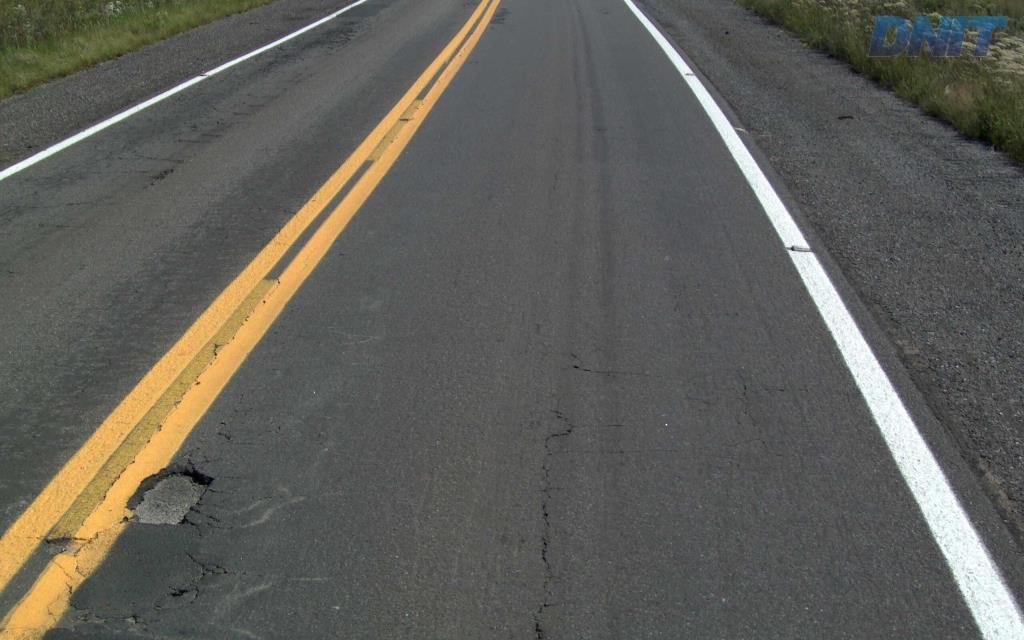pothole: (126, 463, 219, 530)
